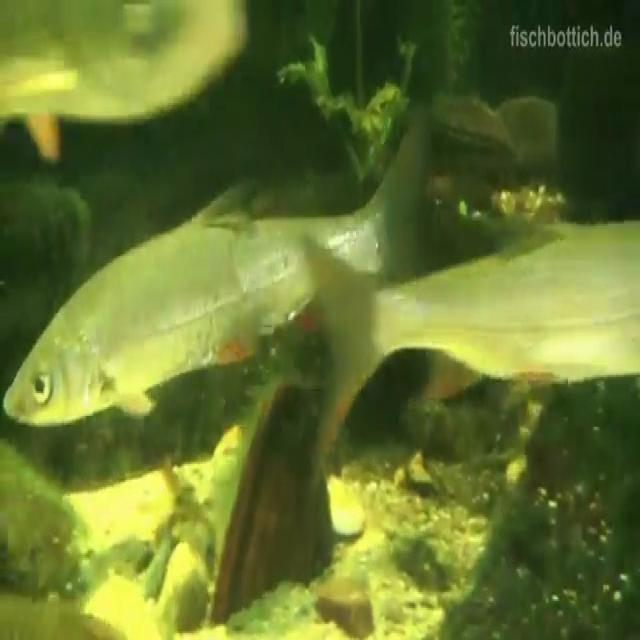Cakil Baligi: (2, 122, 451, 439)
